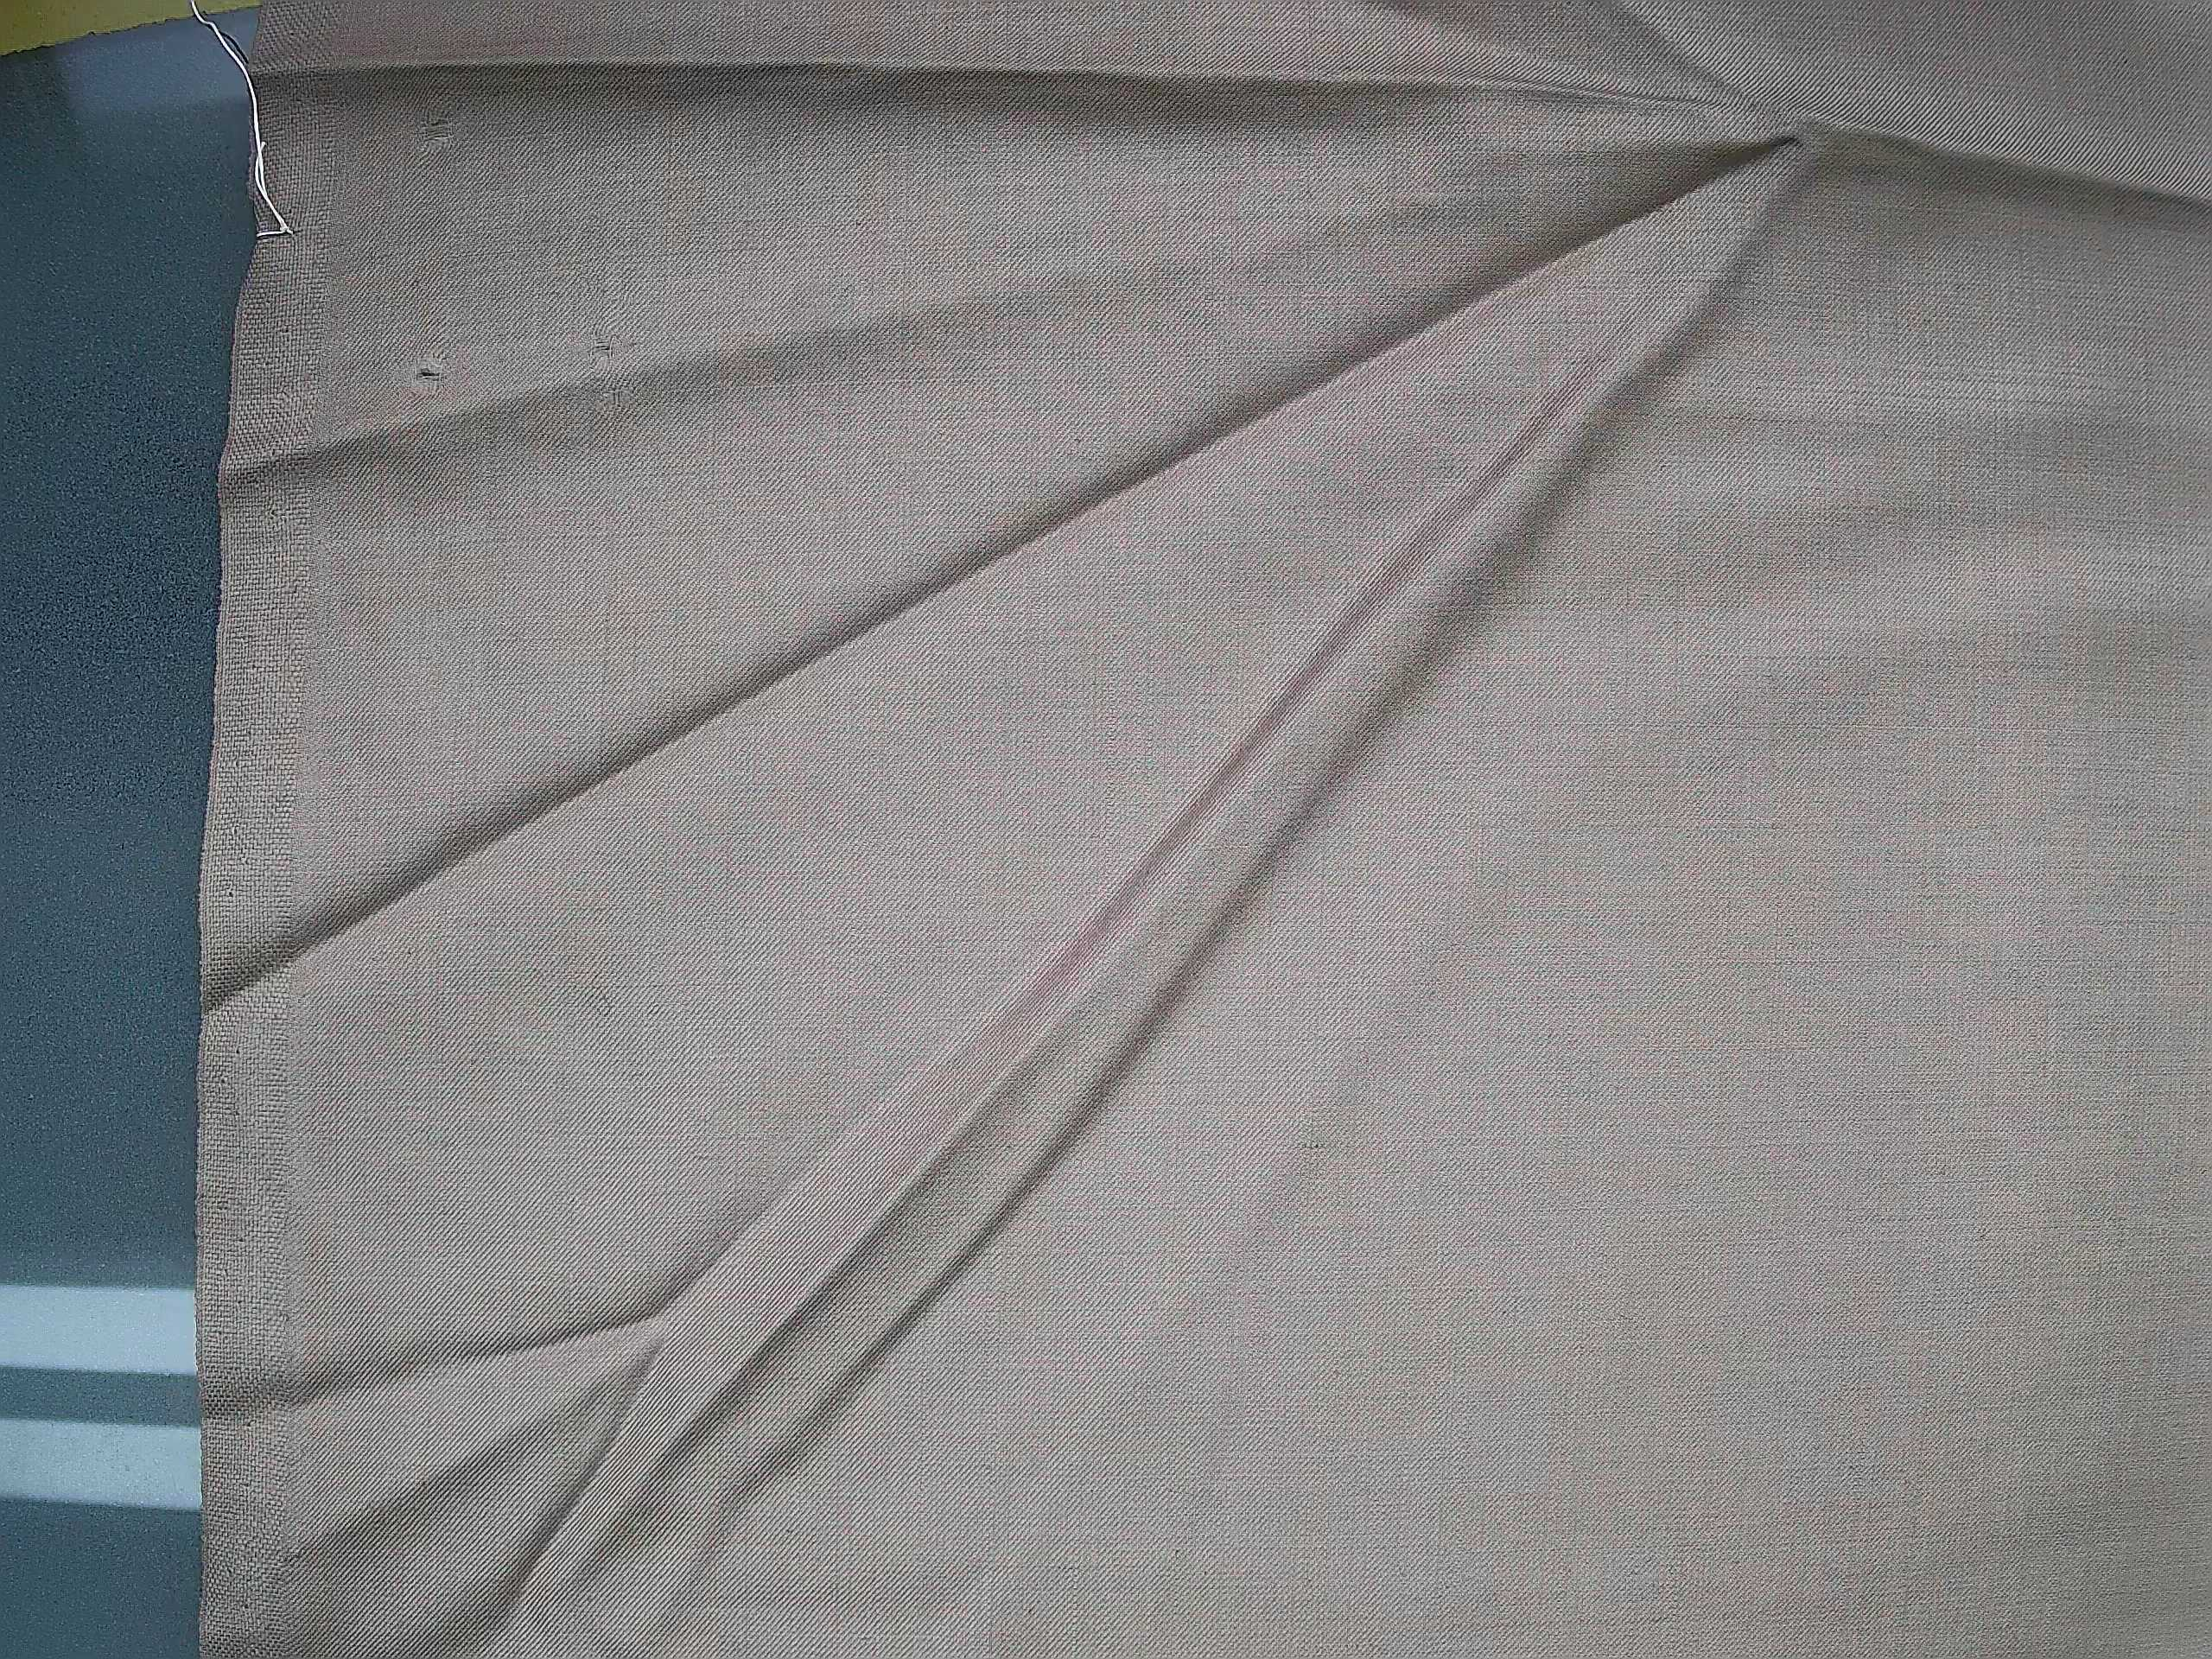rubbing-hole: (570, 317, 651, 385), (385, 338, 460, 410), (404, 96, 475, 166)
